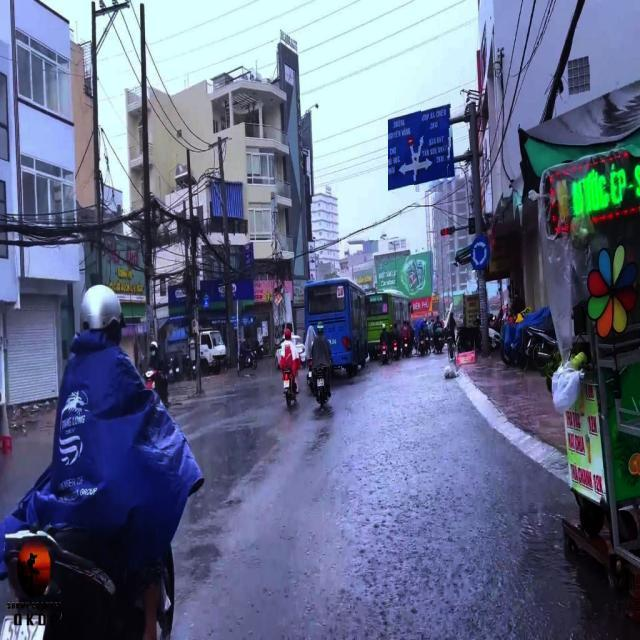303-noi-giao-nhau-chay-theo-vong-xuyen: (469, 236, 489, 269)
